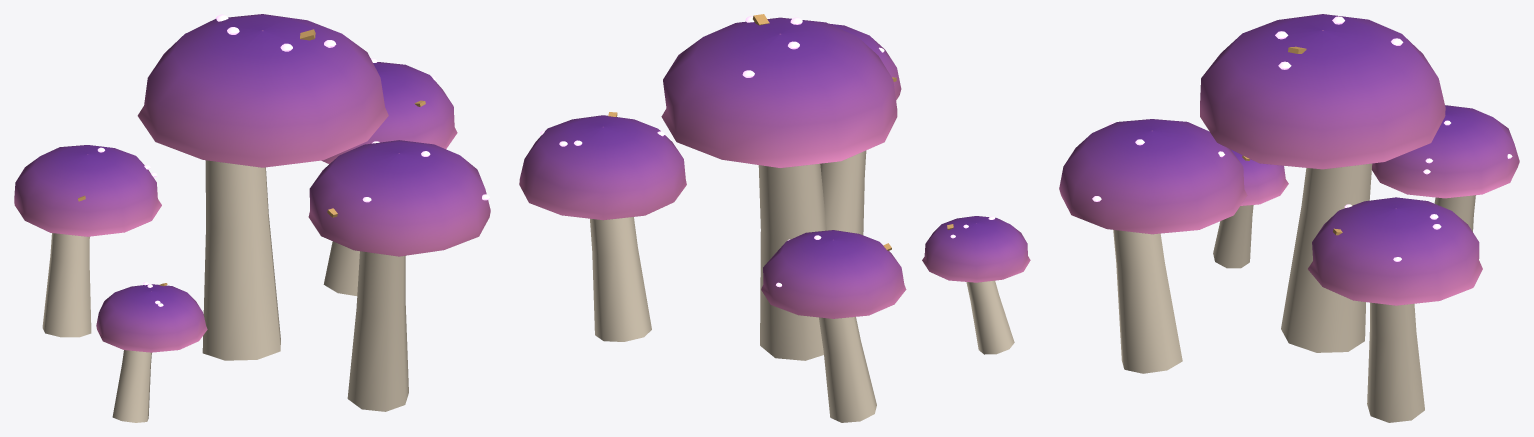
File: Small_Mushroom_Cluster.fbx
The picture shows the model from 3 angles, left to right: view 1: azimuth 30°, elevation 25°; view 2: azimuth 150°, elevation 25°; view 3: azimuth 270°, elevation 25°; orthographic projection. The views are drawn at different scales.
Parts seen in each view (by area): view 1: Small_Mushroom_Cluster_Caps, Small_Mushroom_Cluster_Stems, Small_Mushroom_Cluster_Glow; view 2: Small_Mushroom_Cluster_Caps, Small_Mushroom_Cluster_Stems, Small_Mushroom_Cluster_Glow; view 3: Small_Mushroom_Cluster_Caps, Small_Mushroom_Cluster_Stems, Small_Mushroom_Cluster_Glow.
Boxes of the visible parts, left/top/right/bottom form: Small_Mushroom_Cluster_Caps: left=14, top=14, right=490, bottom=352; Small_Mushroom_Cluster_Stems: left=42, top=160, right=408, bottom=422; Small_Mushroom_Cluster_Glow: left=78, top=14, right=489, bottom=306; Small_Mushroom_Cluster_Caps: left=519, top=17, right=1030, bottom=318; Small_Mushroom_Cluster_Stems: left=590, top=150, right=1014, bottom=422; Small_Mushroom_Cluster_Glow: left=540, top=14, right=994, bottom=287; Small_Mushroom_Cluster_Caps: left=1059, top=14, right=1519, bottom=305; Small_Mushroom_Cluster_Stems: left=1113, top=163, right=1475, bottom=422; Small_Mushroom_Cluster_Glow: left=1092, top=16, right=1512, bottom=261.
Bounding box in the file's own units: 0.8155 × 0.581 × 0.7557.
Materials: 5 (1 with a texture image).
